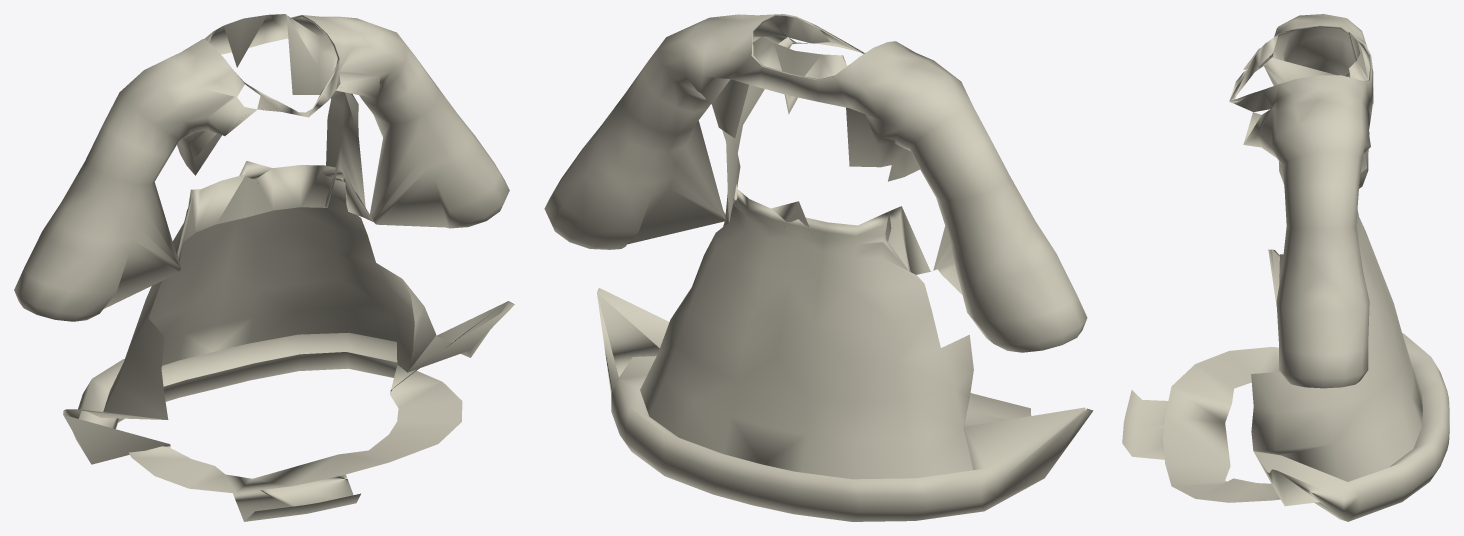
Rendered from Part_Outfit_LINEN_ARMOR.fbx.
3 renders of one model, left to right at view 1: azimuth 30°, elevation 25°; view 2: azimuth 150°, elevation 25°; view 3: azimuth 270°, elevation 25°, orthographic. The views are drawn at different scales.
Visible parts, largest first — view 1: Part_Outfit_LINEN_ARMOR; view 2: Part_Outfit_LINEN_ARMOR; view 3: Part_Outfit_LINEN_ARMOR.
Part boxes in pixels (left/top/right/bottom): Part_Outfit_LINEN_ARMOR: left=14, top=14, right=514, bottom=521; Part_Outfit_LINEN_ARMOR: left=544, top=14, right=1093, bottom=521; Part_Outfit_LINEN_ARMOR: left=1122, top=14, right=1449, bottom=521.
Bounding box in the file's own units: 0.505 × 0.4 × 0.292.
